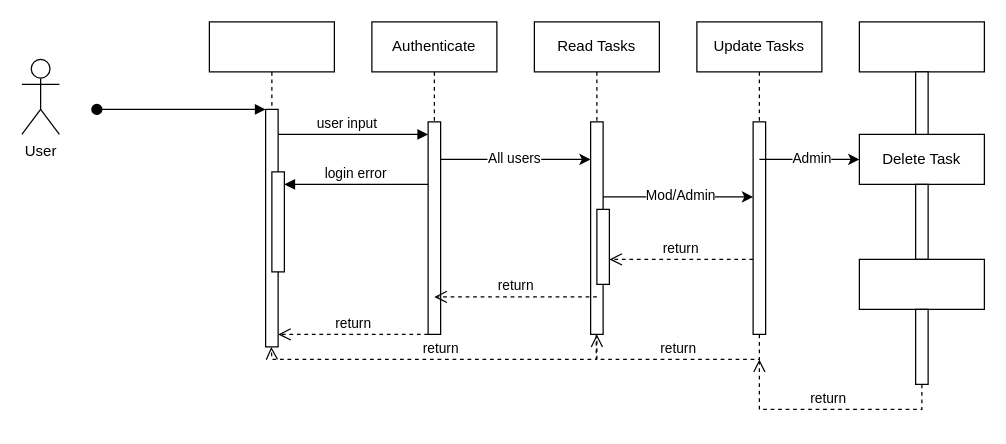
This 1006x444 diagram has some shape labels left out. The shapes that lost their labels are listed below. From the top down, each one's box as (x1, y1, x2, y2) in pixels, then its label:
(858, 21, 984, 109): Create Task
(208, 21, 334, 347): Login
(858, 258, 984, 384): Assign Mod
